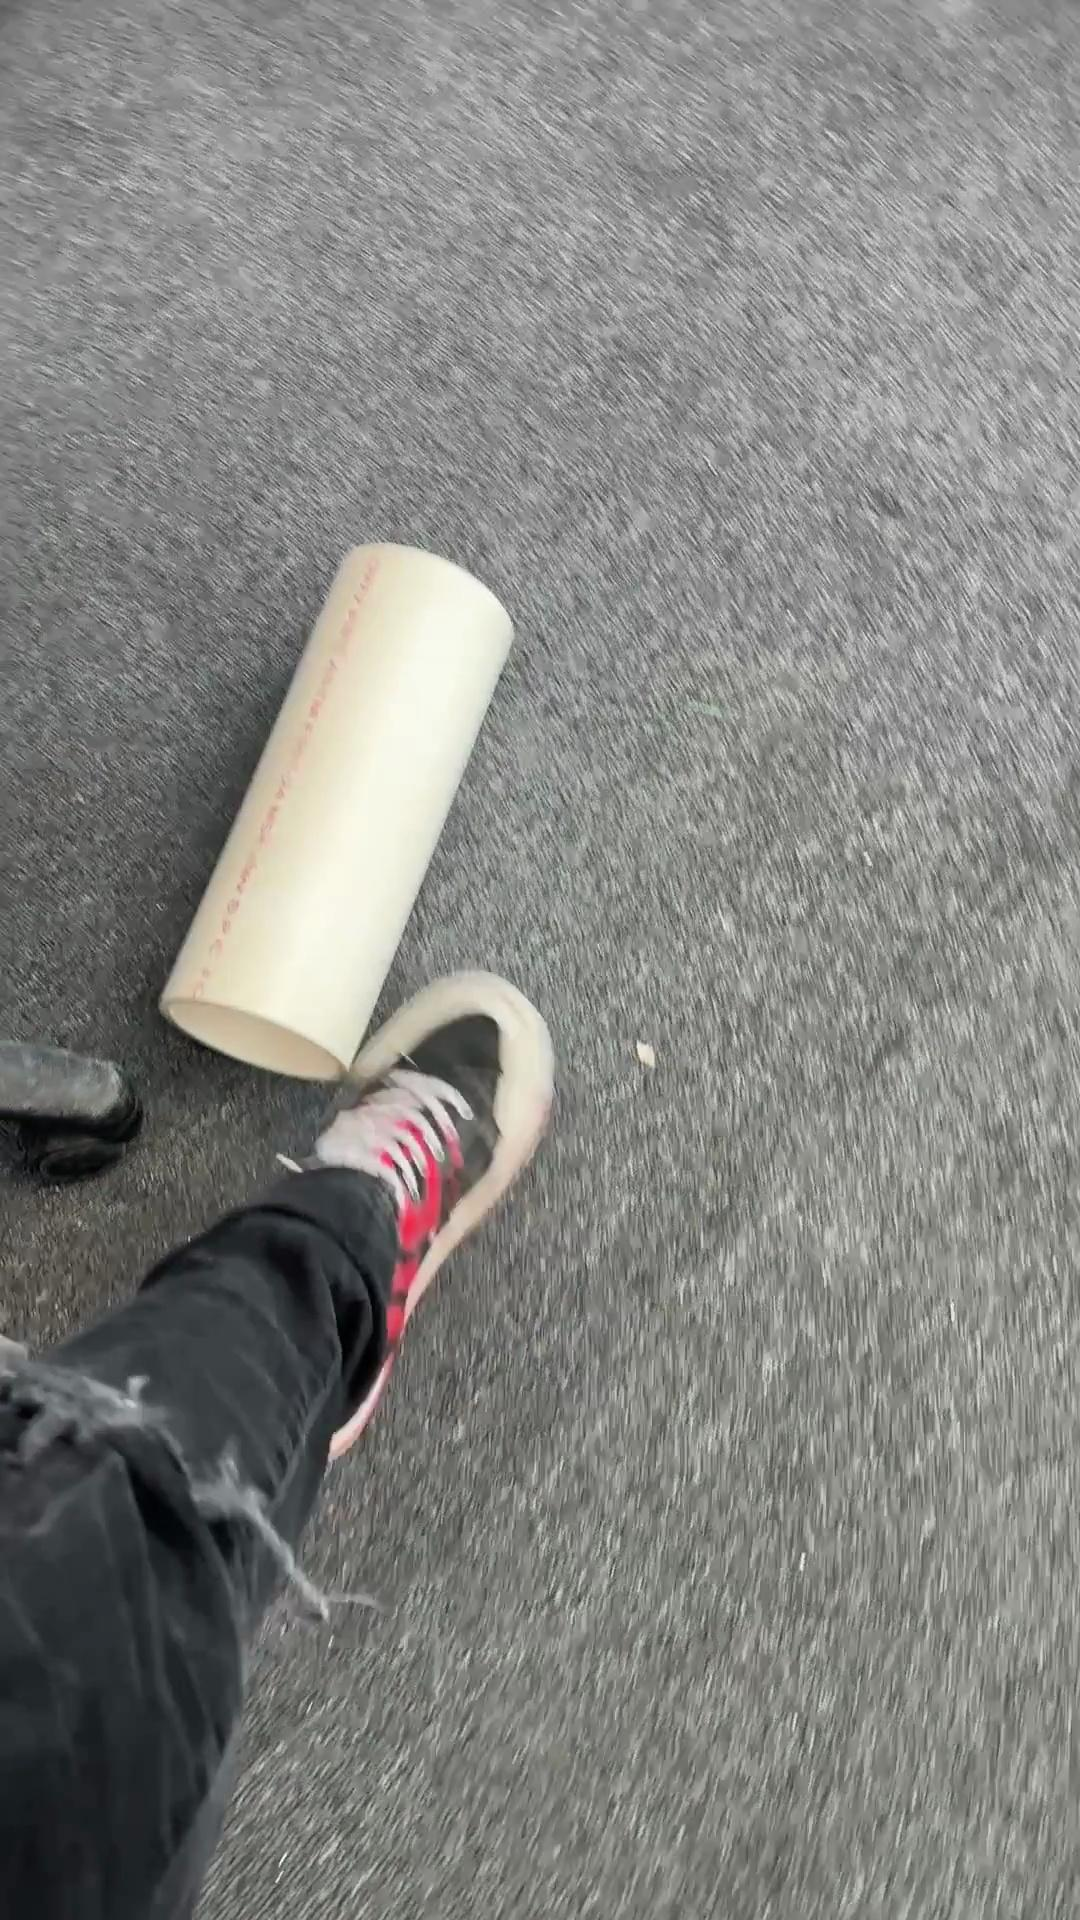CORAL: (156, 537, 516, 1084)
